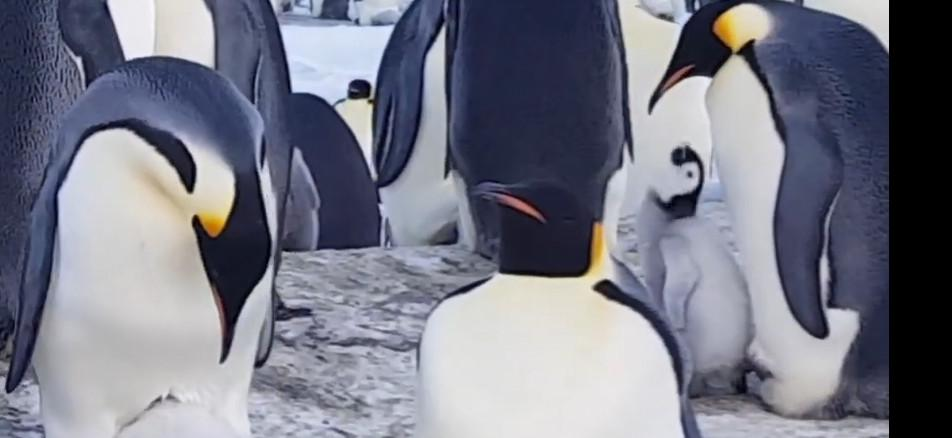Emperor Penguin: (9, 58, 289, 395), (396, 168, 724, 438), (649, 0, 883, 143), (320, 68, 400, 172)
